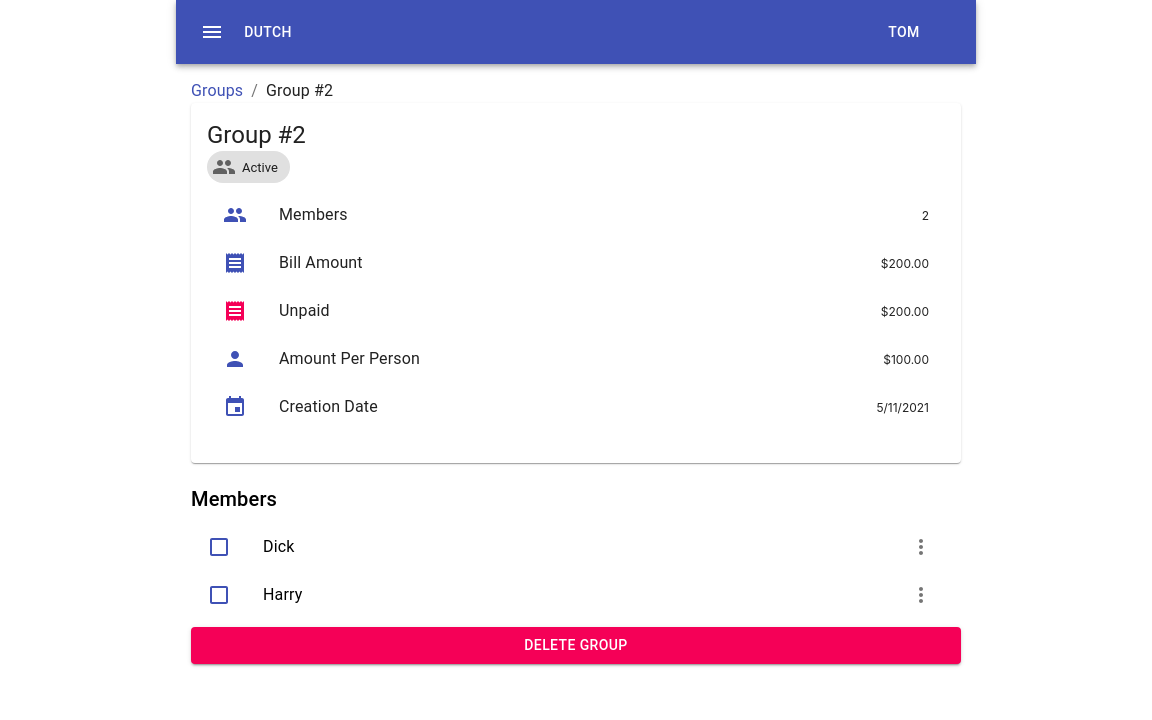
Test case: check deletion of member of a group
Check: the text with test id "amount-per-person" shows "$100", box [883,352,929,366]
Click the 1st button with test id "contact-menu-trigger": (921, 547) [897,523,945,571]
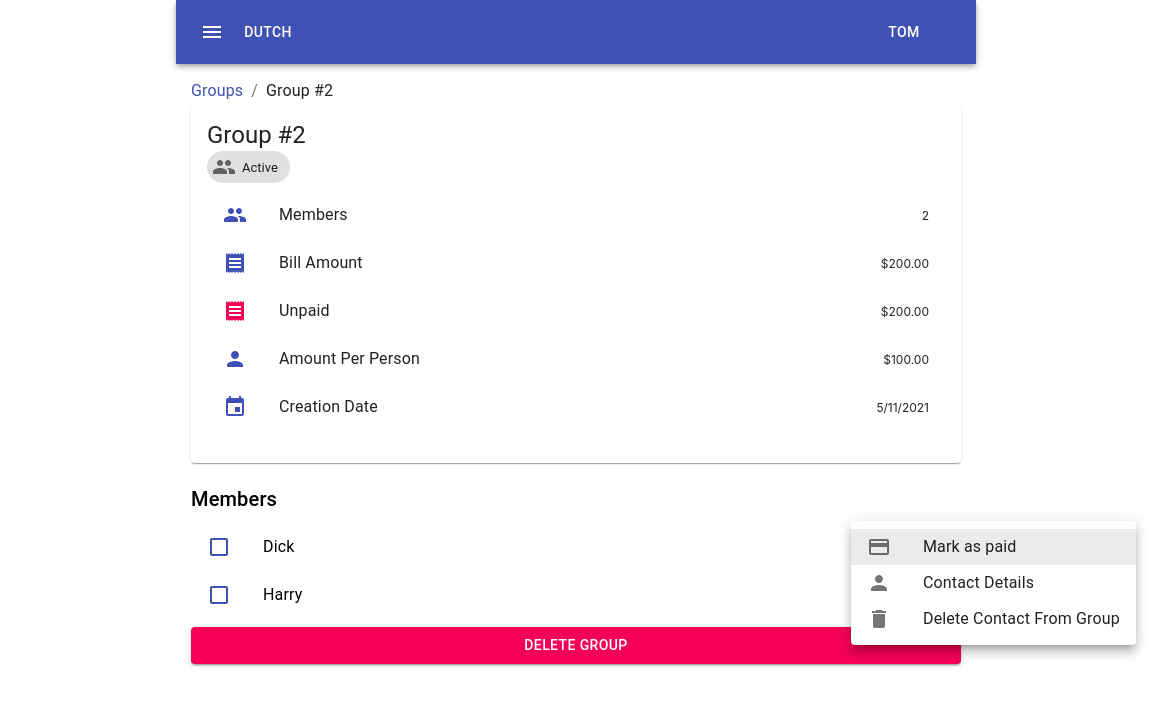
Click the menu item with test id "contact-menu-delete": (993, 619) [851,601,1136,637]
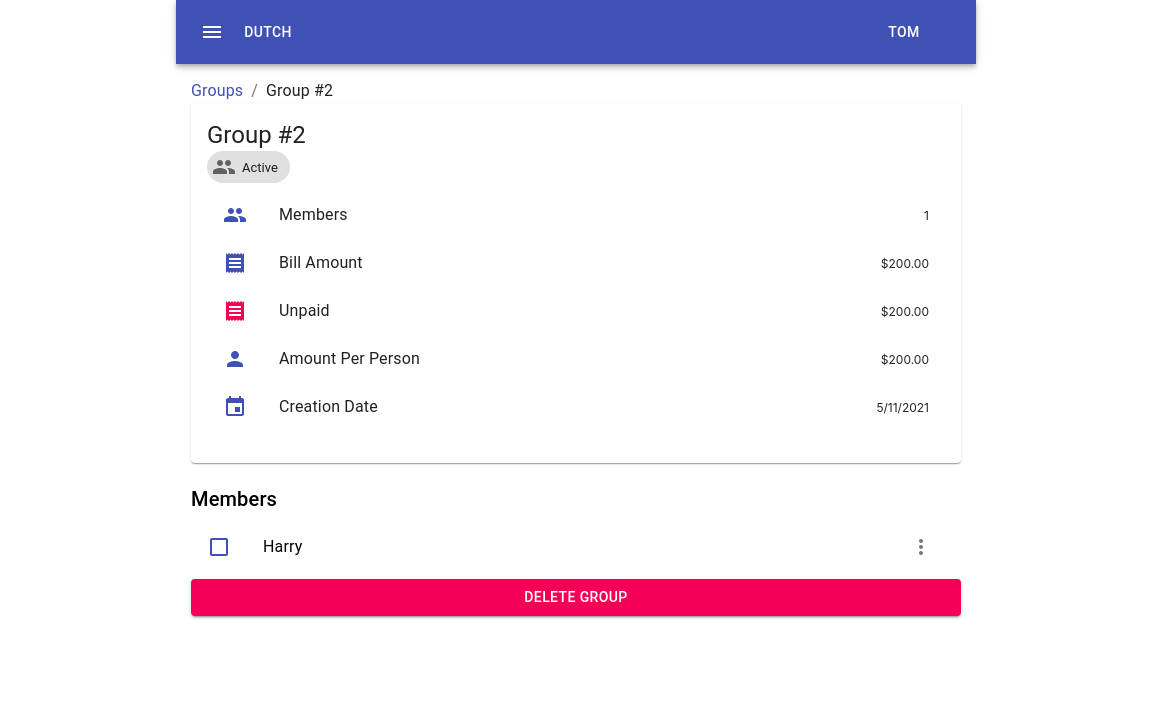
Check: the text with test id "amount-per-person" shows "$200", box [881,352,929,366]
